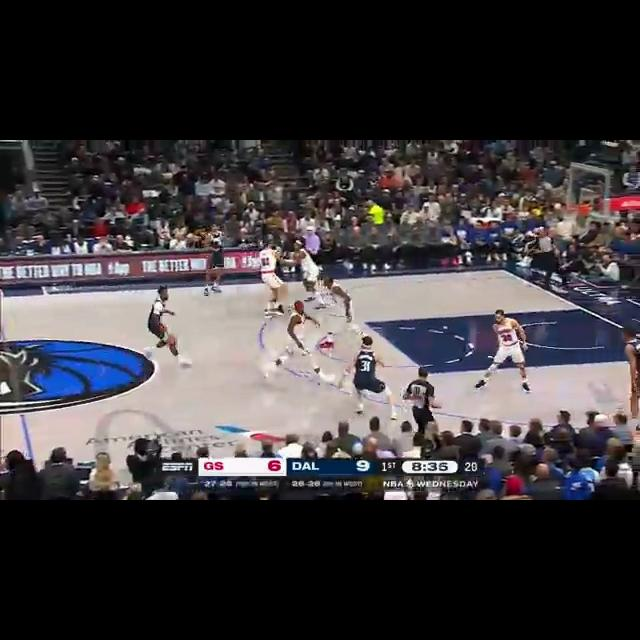Ball: (162, 331, 184, 352)
Team-1-Player: (338, 339, 397, 421), (140, 284, 196, 368), (612, 324, 640, 414), (201, 222, 225, 298)
Team-2-Player: (257, 300, 333, 394), (472, 300, 534, 398), (308, 278, 370, 346), (284, 241, 326, 311), (258, 242, 282, 322)
